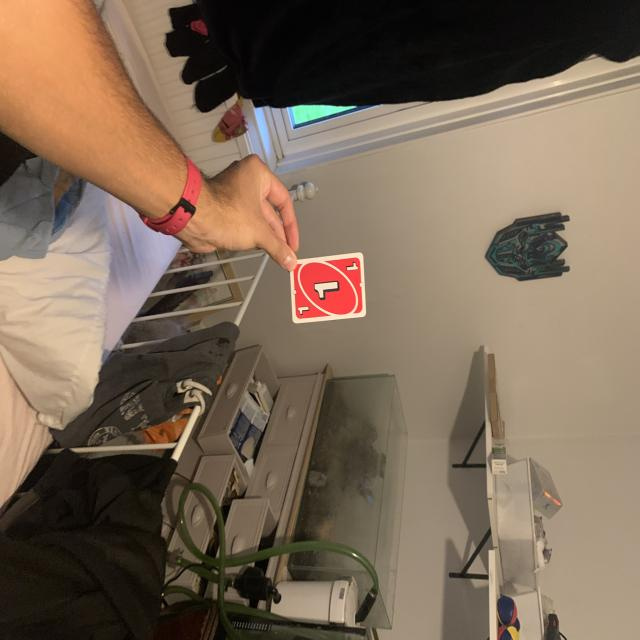lred-1: (344, 260, 360, 276)
